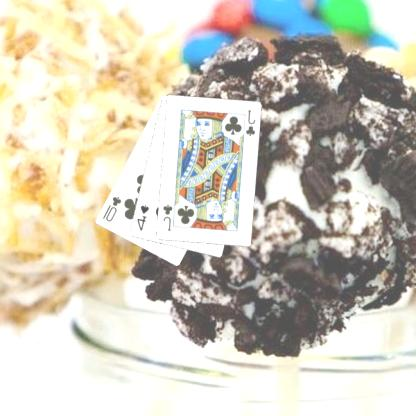10C: (101, 194, 124, 224)
4S: (136, 202, 152, 233)
JC: (244, 108, 258, 138), (162, 202, 175, 233)
